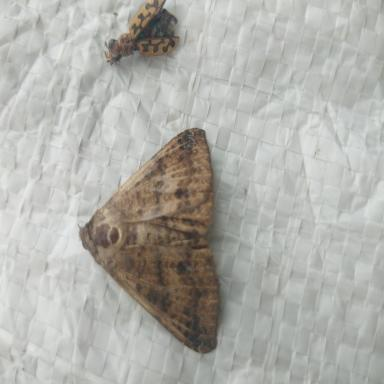abw: (78, 127, 220, 354)
